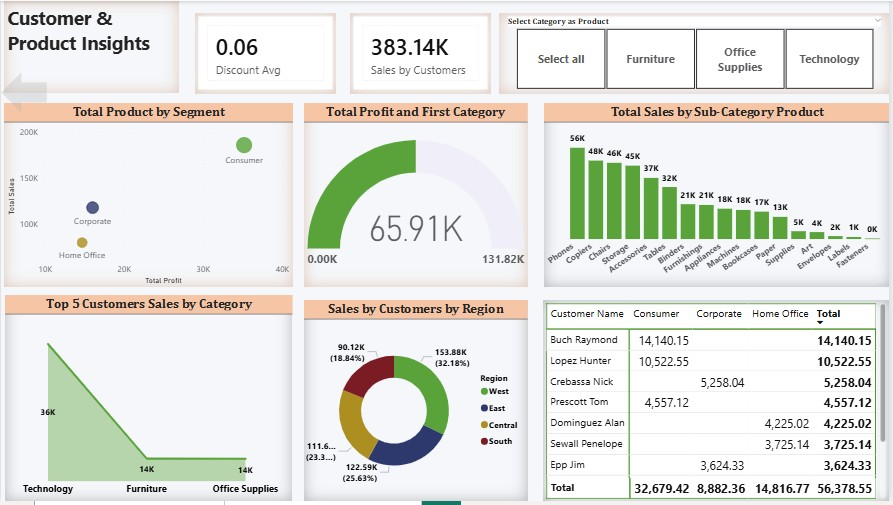

This screenshot's page, from the dashboard's own definition file:
{"tool":"powerbi","page":{"name":"Customer & Product Insights","canvas":[1280,720],"ordinal":1},"visuals":[{"type":"textbox","box":[4.4,0,251.7,133.2],"z":0},{"type":"clusteredColumnChart","title":"Total Sales by Sub-Category Product","fields":{"Y":["Sales.Total Sales"],"Category":["Sales.Sub-Category"]},"box":[781.5,146.3,499,264.9],"z":1000},{"type":"donutChart","fields":{"Category":["Region.Region"],"Y":["Sales.Sales by Customers"]},"box":[436.1,430.2,322,289.8],"z":2000},{"type":"stackedAreaChart","fields":{"Category":["Sales.Category"],"Y":["Sales.Top 5 Customers Sales"]},"box":[5.9,422.9,414.1,297.1],"z":3000},{"type":"pivotTable","fields":{"Rows":["Customer.Customer Name"],"Columns":["Customer.Segment"],"Values":["Sales.Total Sales"]},"box":[781.1,430,498.9,290.6],"z":4000},{"type":"gauge","fields":{"Y":["Sales.Total Profit"]},"box":[436.1,146.3,322,264.9],"z":5000},{"type":"scatterChart","title":"Total Product by Segment","fields":{"Category":["Sales.Segment"],"X":["Sales.Total Profit"],"Y":["Sales.Total Sales"],"Size":["Sales.Totel Quantity"]},"box":[4.4,146.3,415.6,264.9],"z":6000},{"type":"cardVisual","fields":{"Data":["Sales.Discount Avg"]},"box":[279.5,17.6,203.4,115.6],"z":7000},{"type":"cardVisual","fields":{"Data":["Sales.Sales by Customers"]},"box":[502,17.6,203.4,115.6],"z":8000},{"type":"slicer","fields":{"Values":["Product.Category"]},"box":[717.1,17.6,563.4,115.6],"z":9000},{"type":"shape","box":[0,102.2,66.2,59],"z":10000}]}

Visuals, with their boxes in screenshot pixels (x1, y1, x2, y2), scaled from the page's 1280x720 canvas onto the 893x505 screenshot:
textbox: x1=3 y1=0 x2=179 y2=93
"Total Sales by Sub-Category Product" clusteredColumnChart: x1=545 y1=103 x2=892 y2=288
donutChart - Region.Region x Sales.Sales by Customers: x1=304 y1=302 x2=529 y2=504
stackedAreaChart - Sales.Category x Sales.Top 5 Customers Sales: x1=4 y1=297 x2=293 y2=504
pivotTable - Customer.Customer Name x Customer.Segment: x1=545 y1=302 x2=892 y2=504
gauge - Sales.Total Profit: x1=304 y1=103 x2=529 y2=288
"Total Product by Segment" scatterChart: x1=3 y1=103 x2=293 y2=288
cardVisual - Sales.Discount Avg: x1=195 y1=12 x2=337 y2=93
cardVisual - Sales.Sales by Customers: x1=350 y1=12 x2=492 y2=93
slicer - Product.Category: x1=500 y1=12 x2=892 y2=93
shape: x1=0 y1=72 x2=46 y2=113
